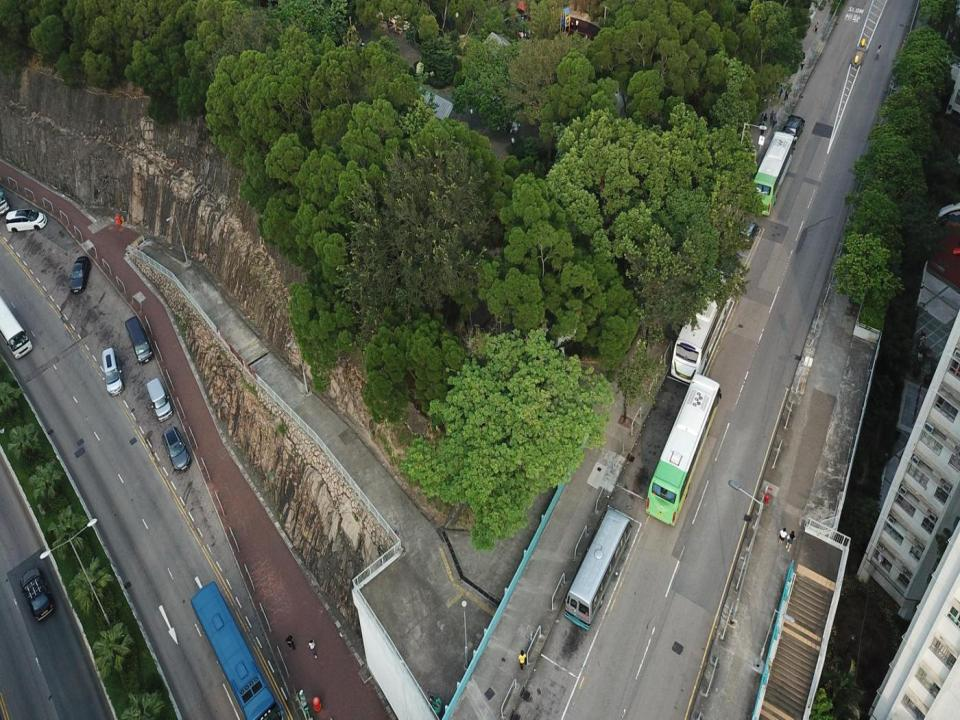bus: (191, 581, 286, 719), (646, 374, 721, 525), (565, 507, 631, 631), (670, 266, 734, 384), (747, 131, 797, 216), (0, 294, 33, 359)
car: (19, 568, 54, 620), (6, 209, 48, 231), (69, 256, 91, 292), (714, 250, 740, 278)
van: (125, 316, 154, 365), (162, 426, 190, 472), (146, 377, 172, 422), (102, 347, 124, 397), (781, 114, 806, 146), (738, 221, 758, 250)
